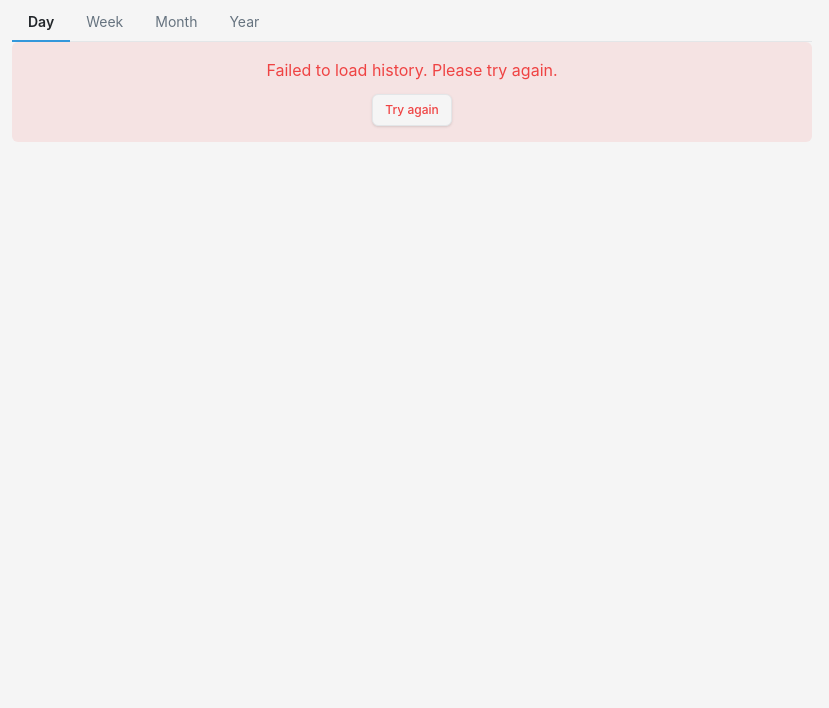
it: StockHistorySection › renders an error state with a retry button on fetch failure
The width and height of the screenshot is (829, 708).
Expected: the text "Failed to load history. Please try again." is shown, 266,60 -> 558,80
Click the button "Try again".
click(412, 110)  # box 372,94 -> 452,126
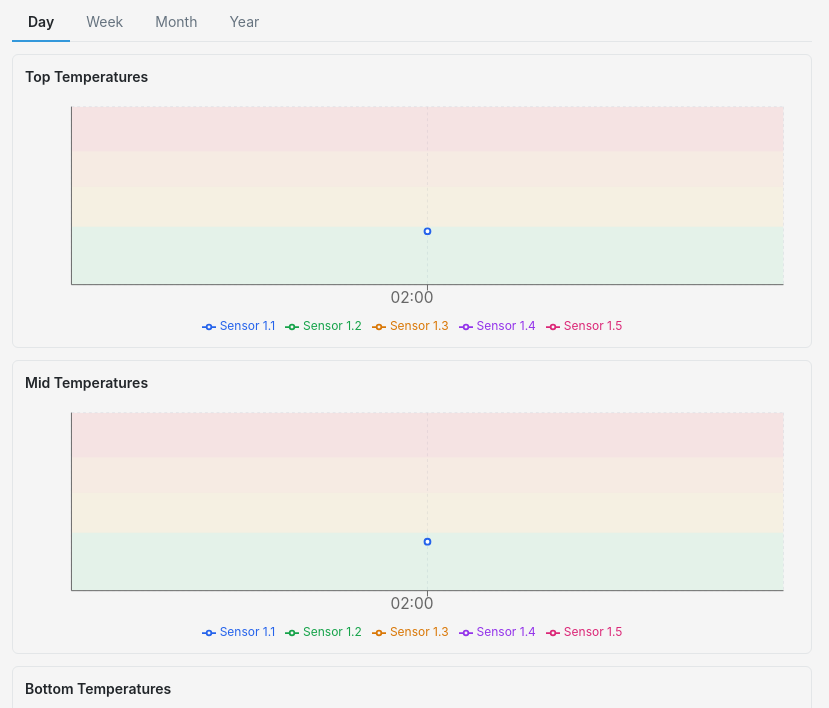
Now the heading "Top Temperatures" is shown, box 25,68 -> 148,85
